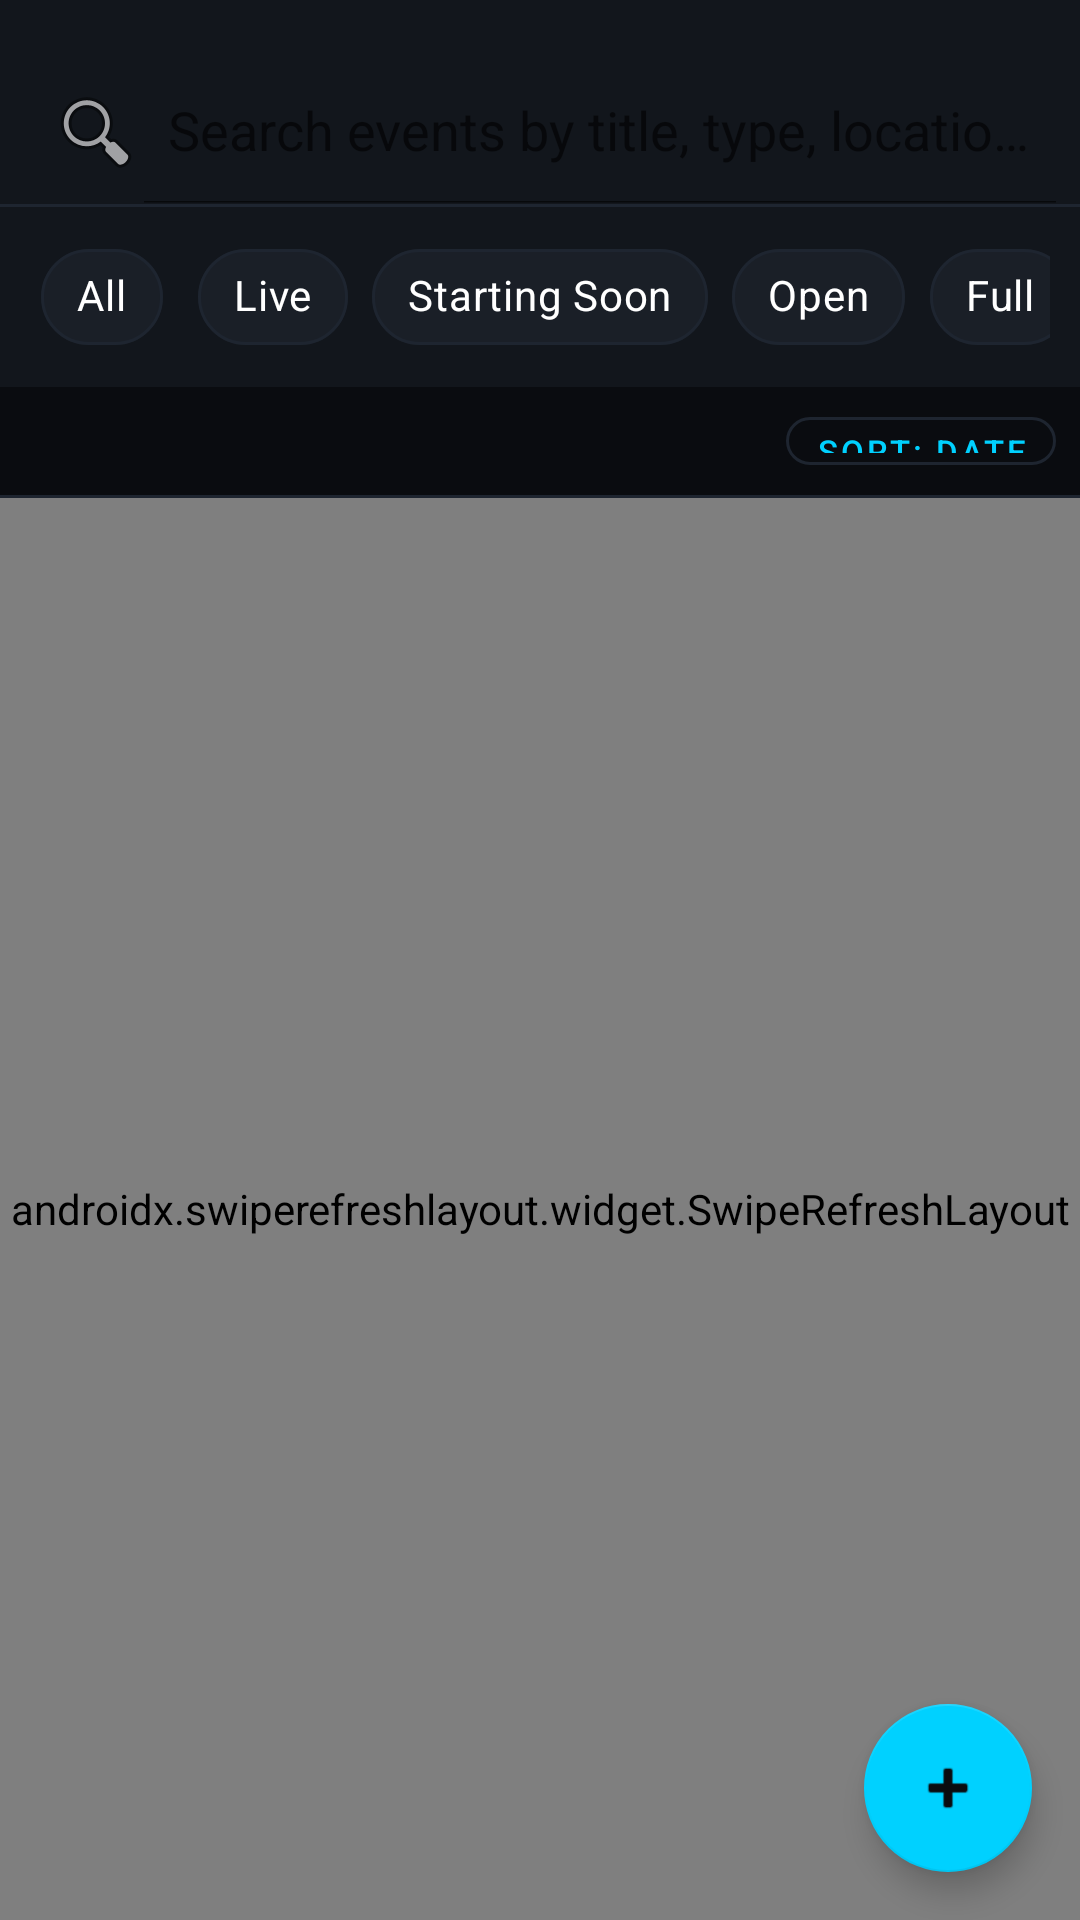

Icons on this 1080*1920 Android screen, each with the point to tap as point (x, y):
Create event: point (948, 1788)
